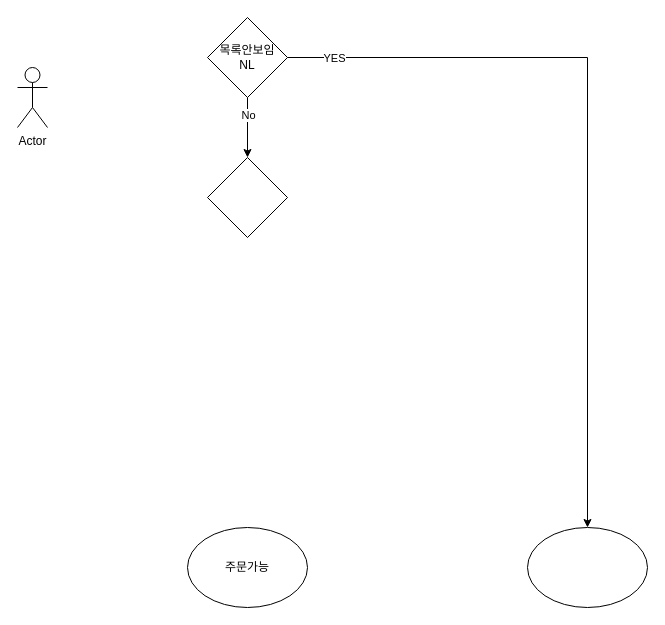
This 665x625 diagram has some shape labels left out. Here are the shapes that lost their labels. From the top down, the box of each, then its label:
(206, 156, 288, 238): 소도구
(526, 526, 648, 608): 주문불가
